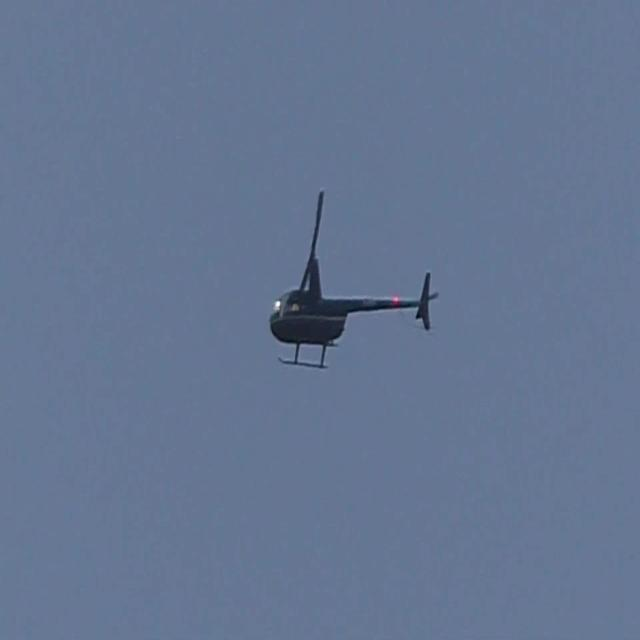CIV_HELO: (268, 254, 438, 372)
